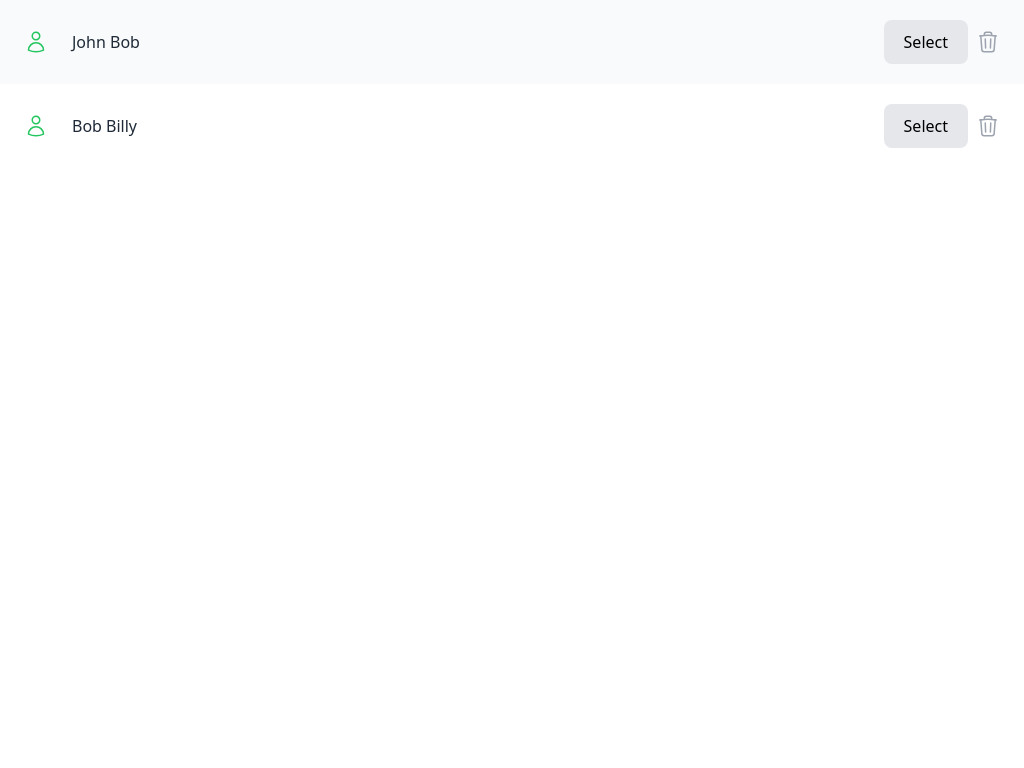
Students › should delete a student
Click the button with test id "student-delete" in the row of "John Bob": (988, 42) [976, 20, 1000, 64]
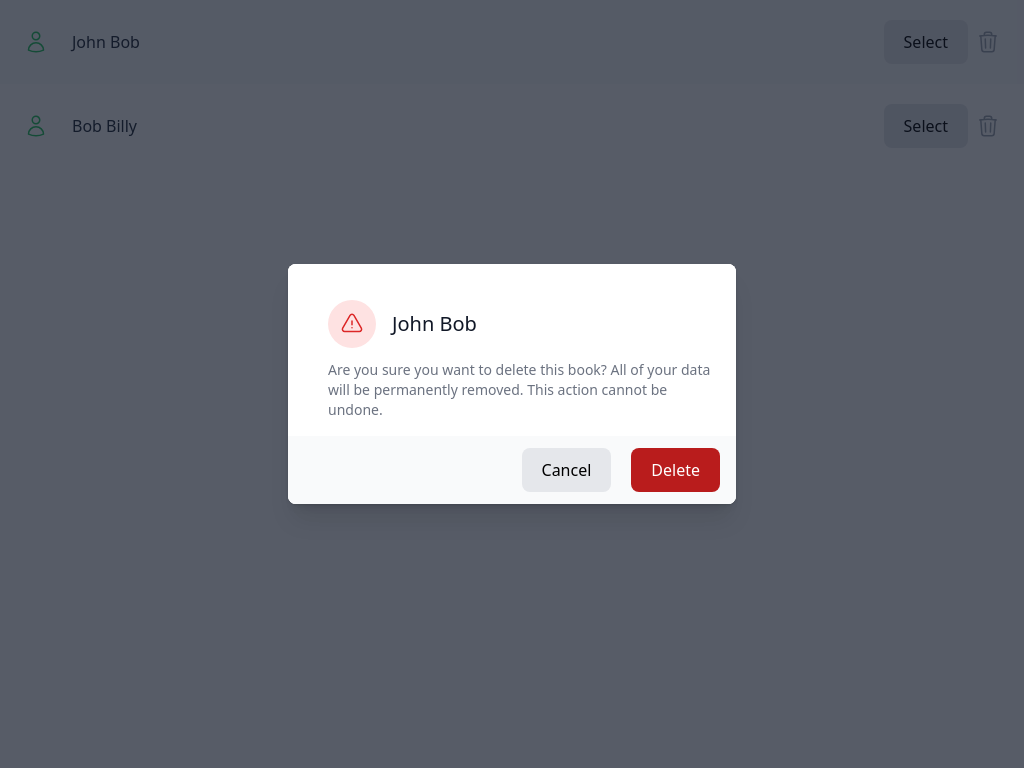
Click the button with test id "delete-button": (676, 470) [631, 448, 720, 492]
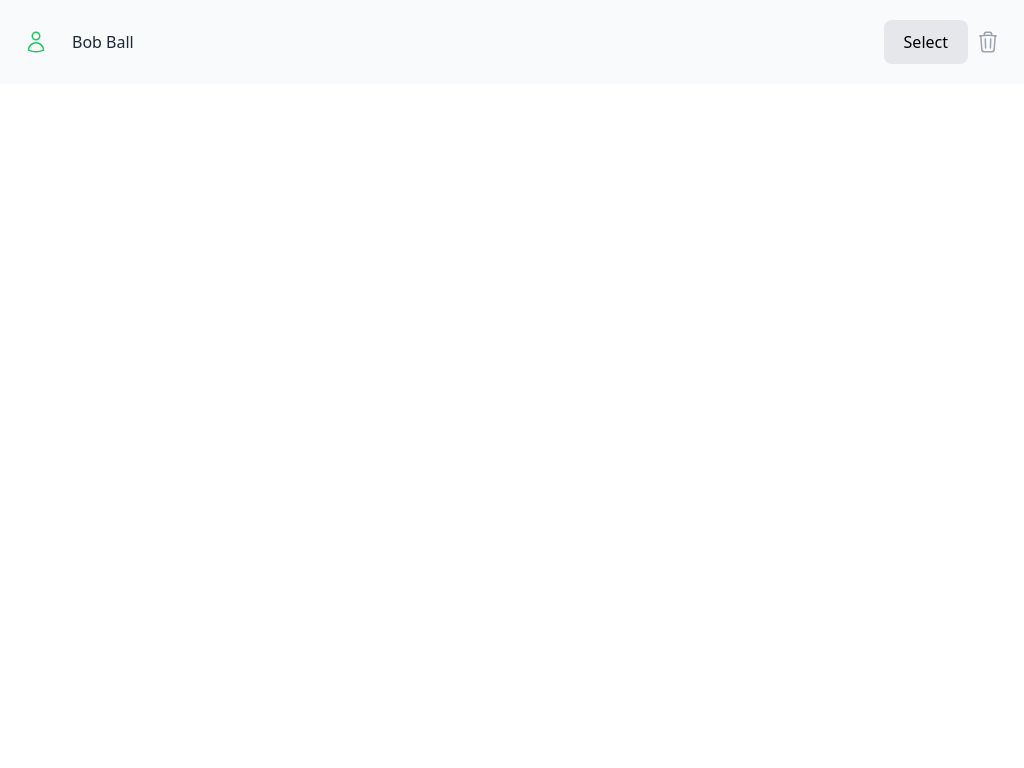
Expected: the element with test id "modal-confirmation" is gone
Expected: the number of buttons with test id "student-delete" is 1, [976, 20, 1000, 64]
